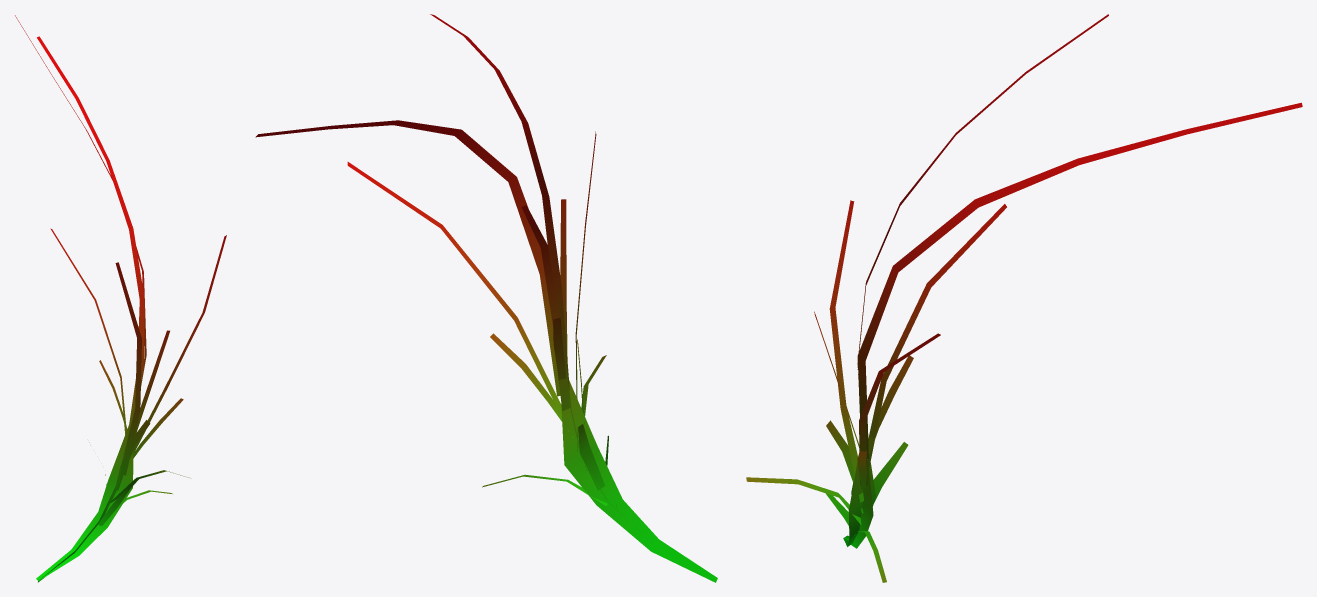
The model's file is Sea Wheatgrass_LOD2_Var15_ui2oagjia.fbx.
3 views of the same model, side by side, from view 1: azimuth 30°, elevation 25°; view 2: azimuth 150°, elevation 25°; view 3: azimuth 270°, elevation 25° (orthographic). The views are drawn at different scales.
Visible parts, largest first — view 1: _wa55_Var15_LOD2; view 2: _wa55_Var15_LOD2; view 3: _wa55_Var15_LOD2.
Part boxes in pixels (x1,y1,x2,y2): _wa55_Var15_LOD2: [15, 15, 226, 582]; _wa55_Var15_LOD2: [255, 14, 717, 582]; _wa55_Var15_LOD2: [746, 14, 1302, 582].
Bounding box in the file's own units: 22.41 × 42.61 × 36.35.
